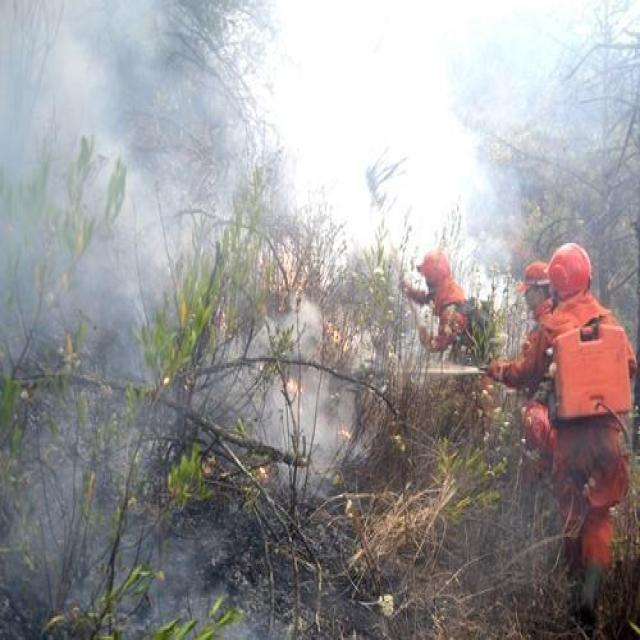fire: (237, 310, 366, 456)
